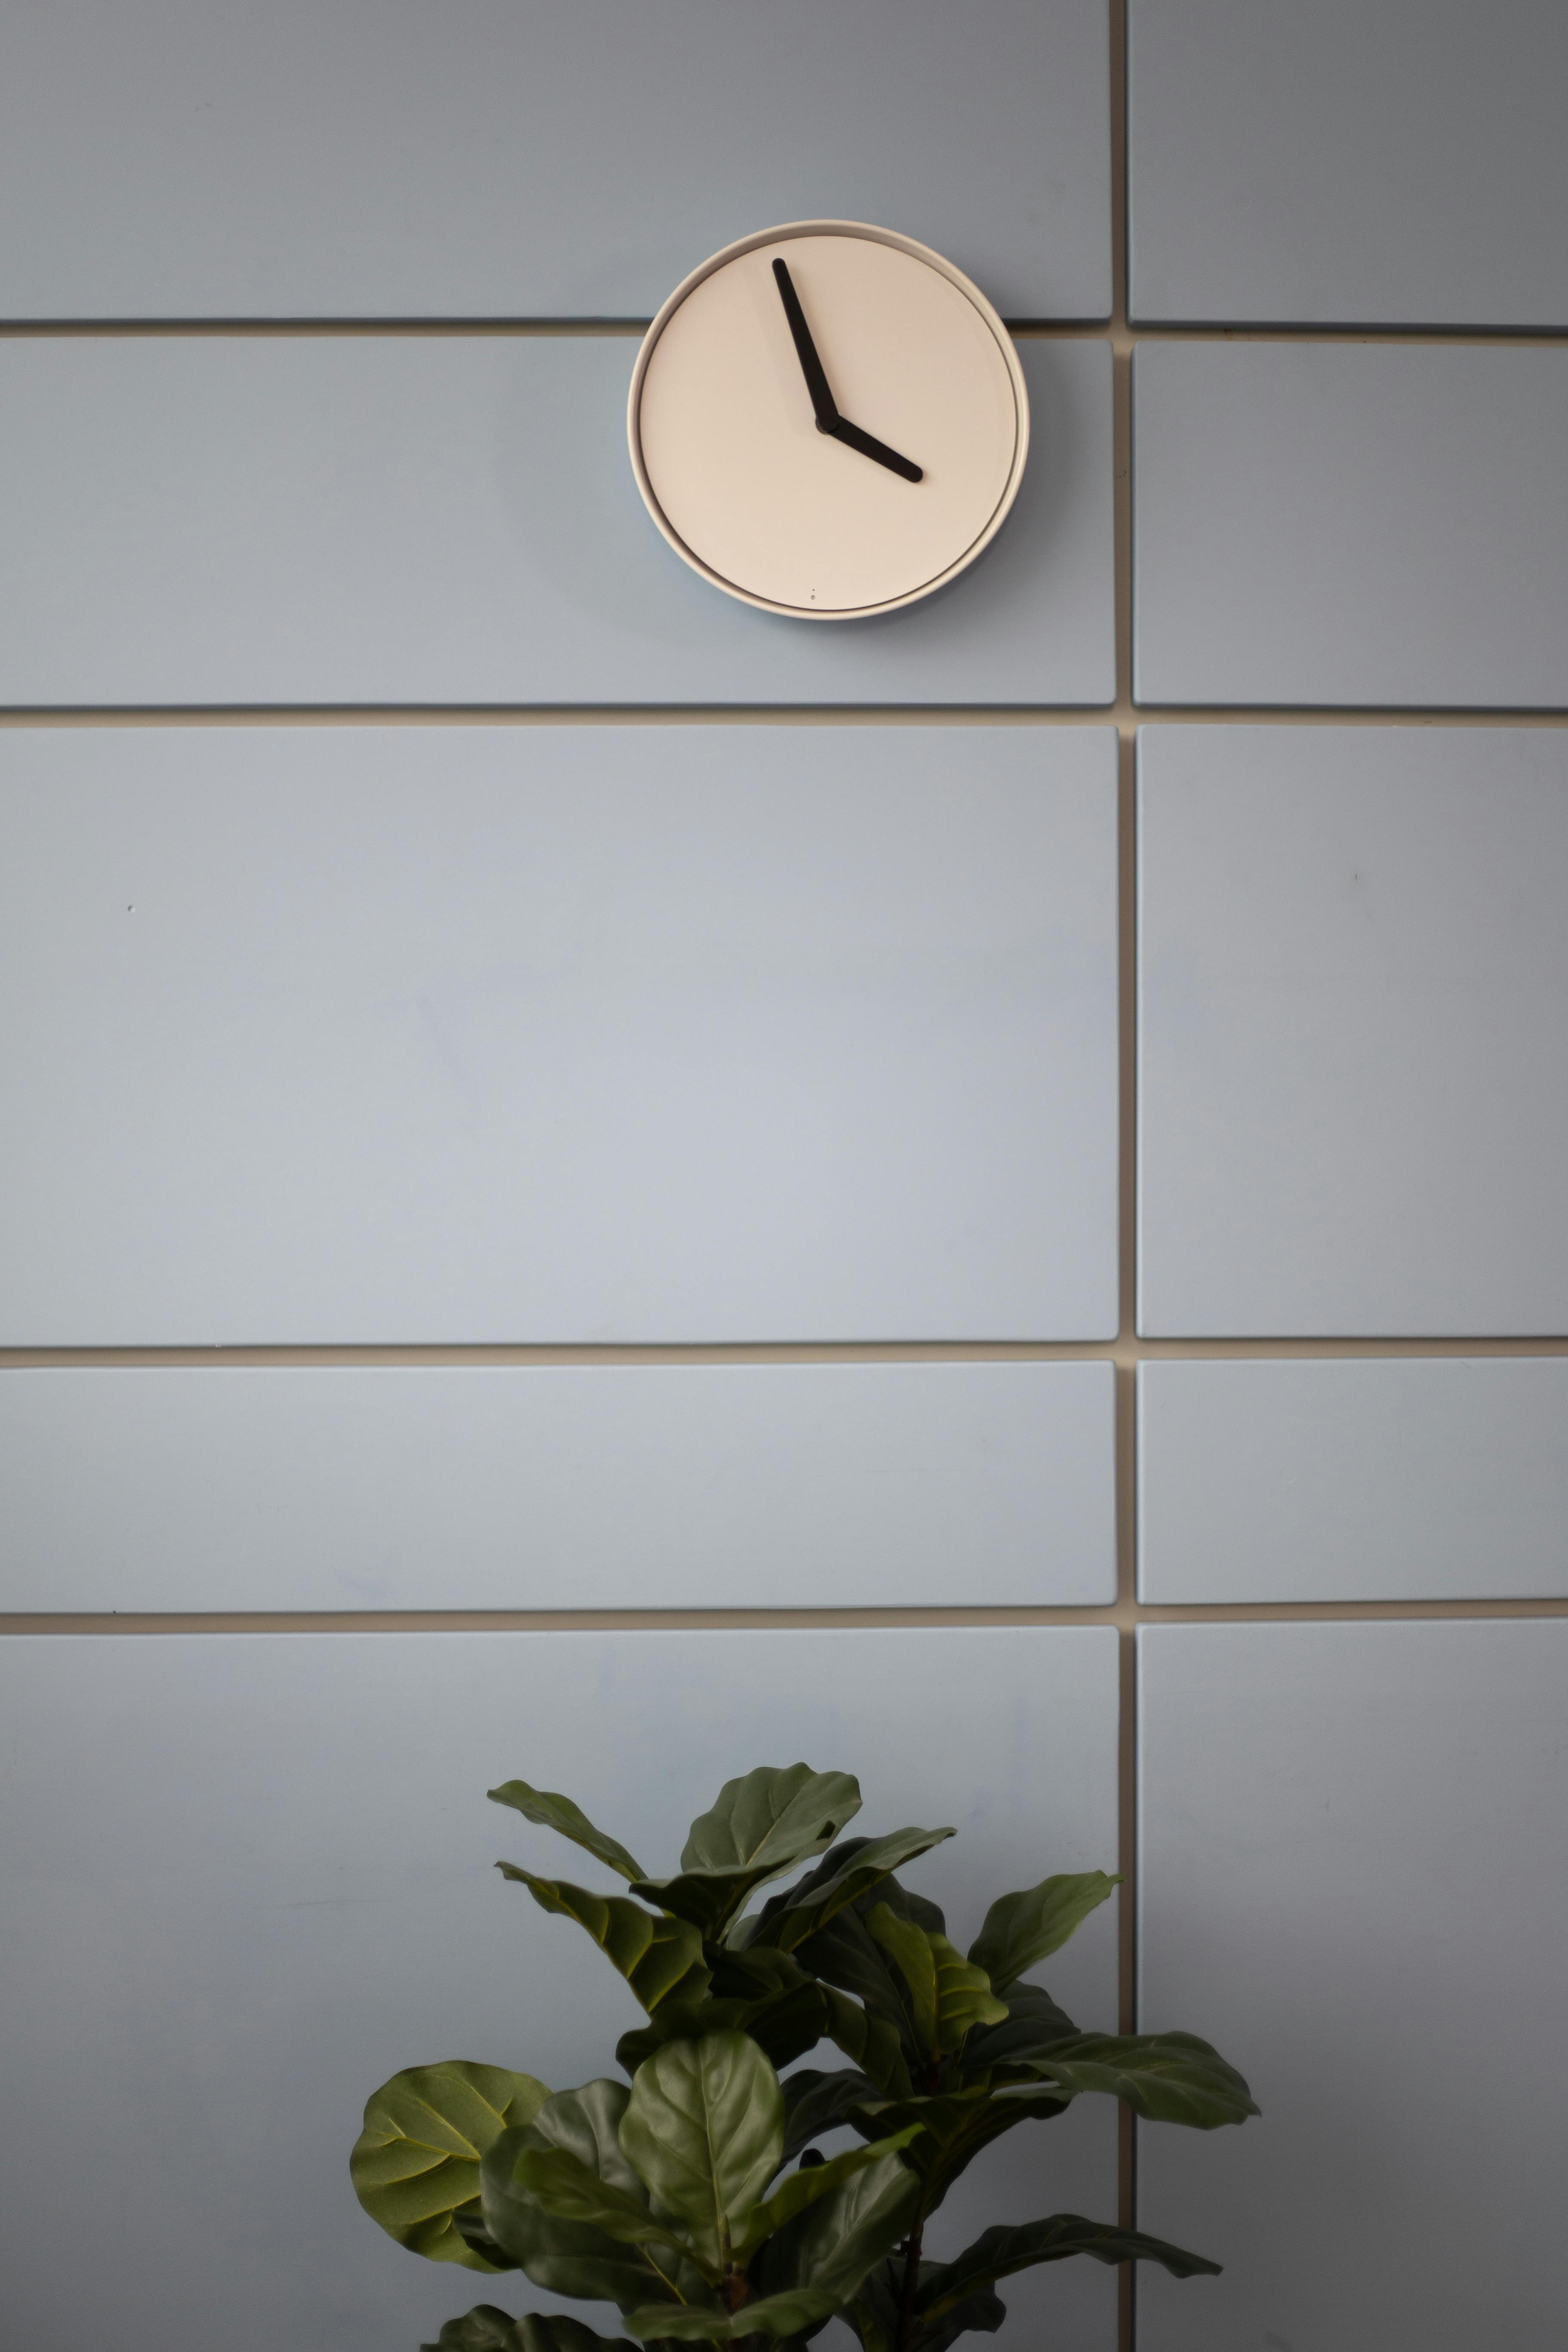clock: (572, 154, 1150, 654)
